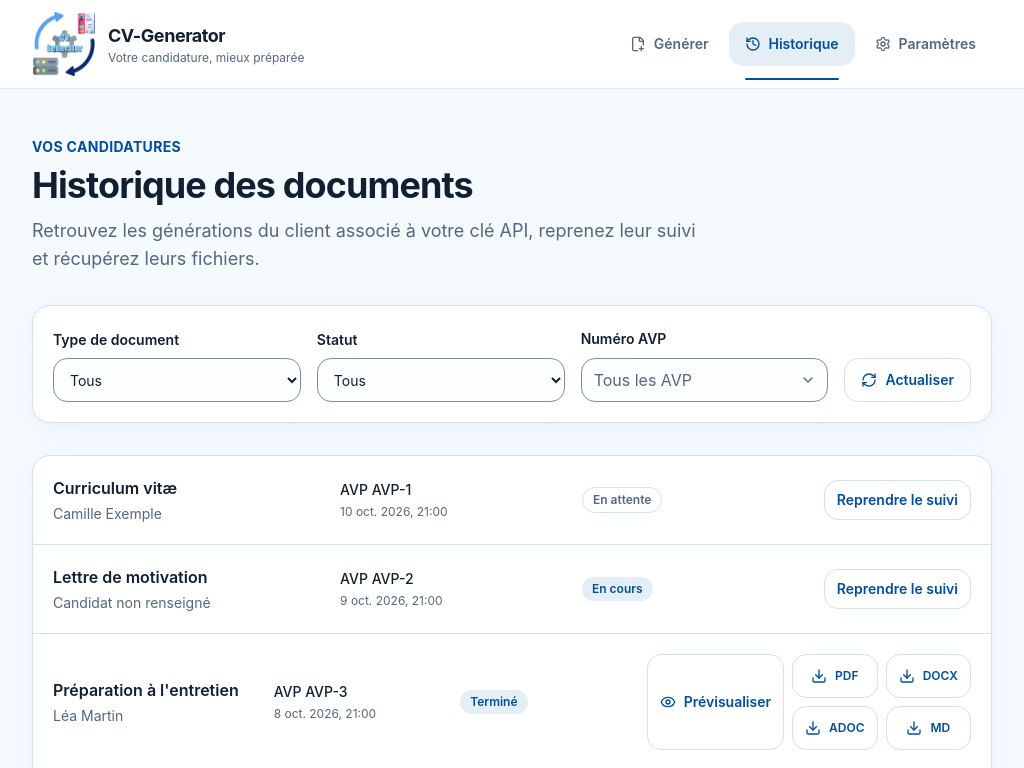
Test: historique documentaire › sélectionne et efface un AVP au clavier en le combinant aux autres filtres
Type "avp-3" into the dropdown labelled "Numéro AVP" at (704, 380), box [581, 358, 828, 402]
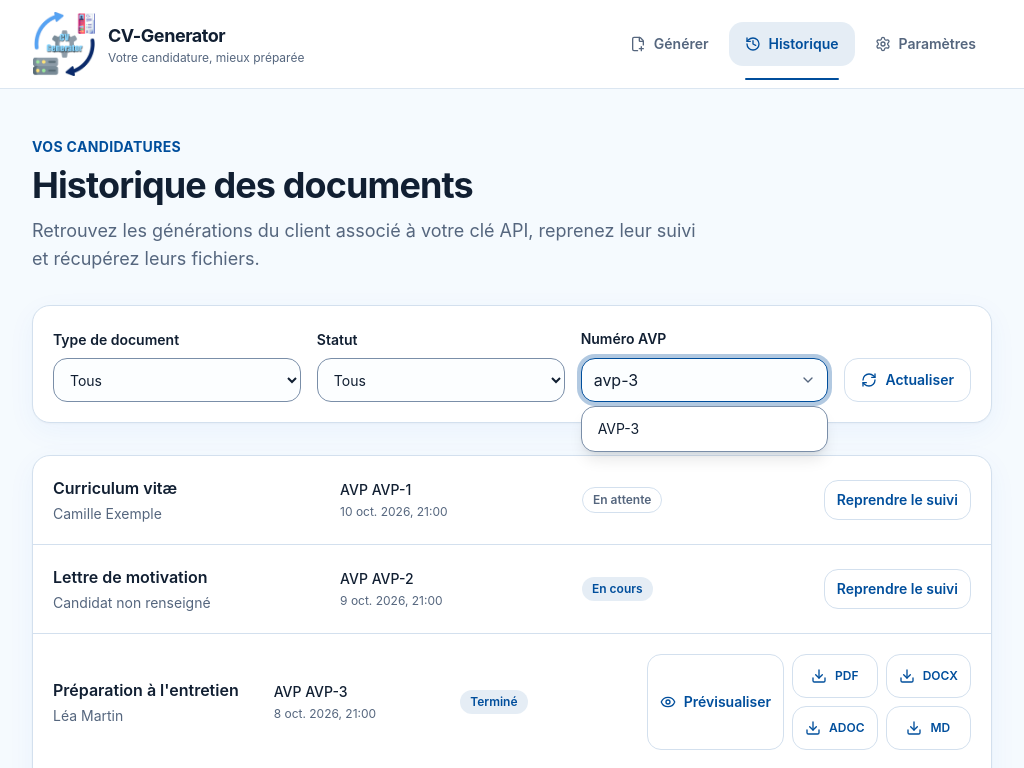
Press Arrowdown Enter
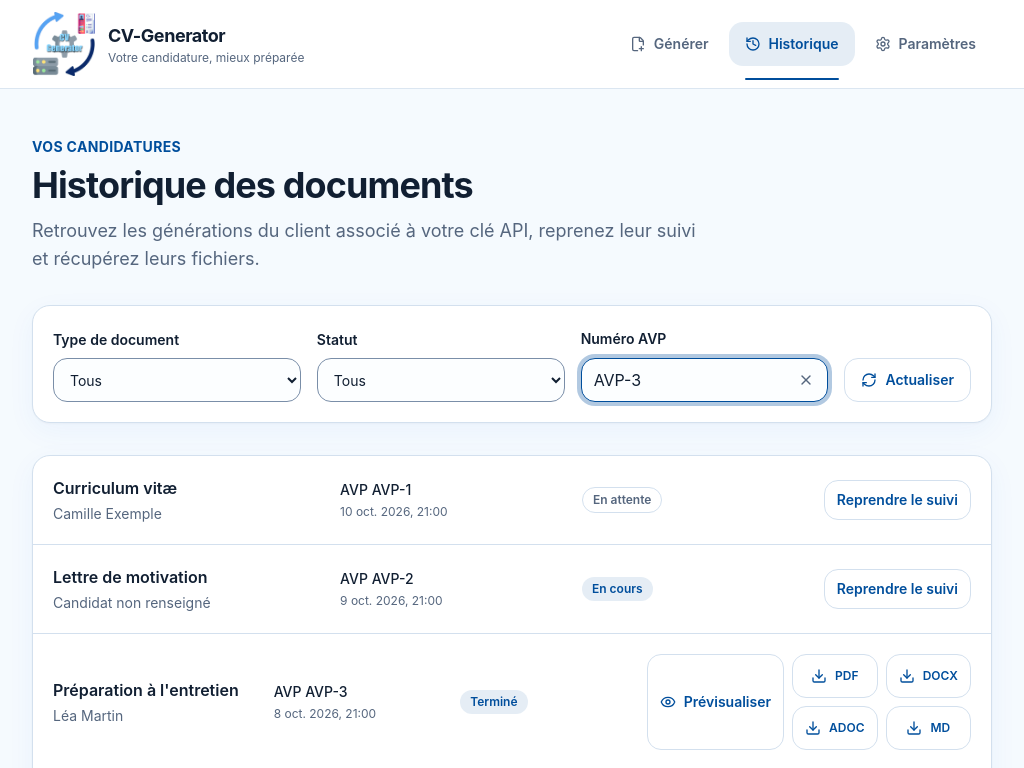
Select "Préparation à l'entretien" in the dropdown named "Filtrer par type" at (177, 380), box [53, 358, 301, 402]
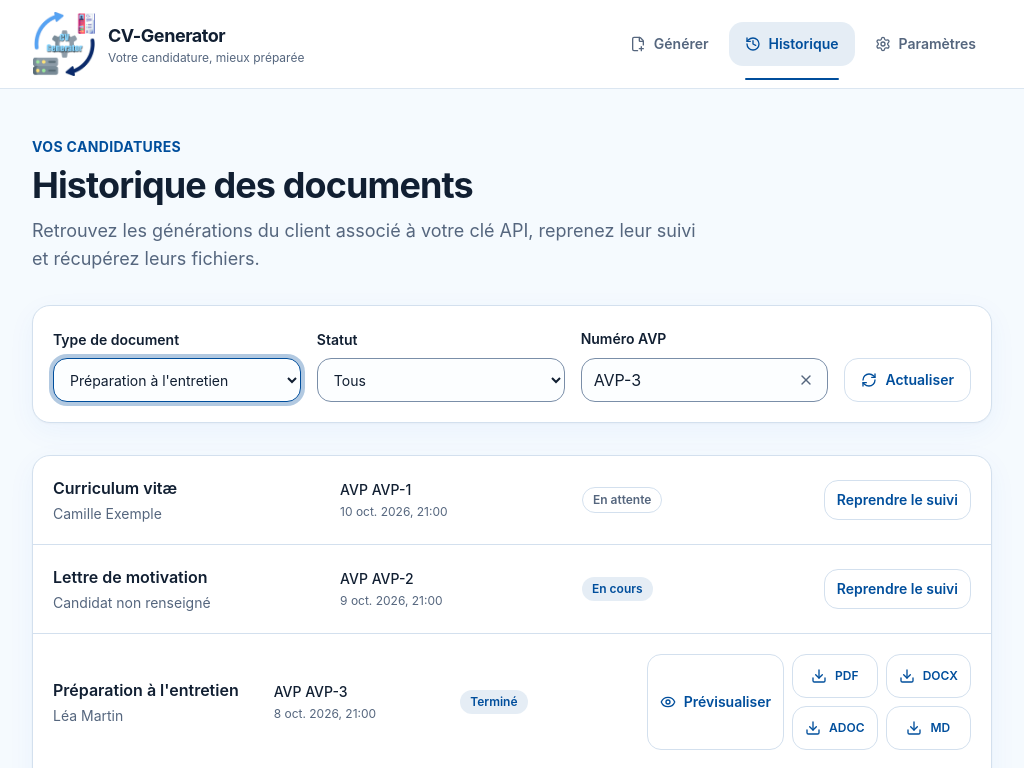
Click the button named "Effacer le filtre AVP" at (806, 380), box [788, 362, 824, 398]
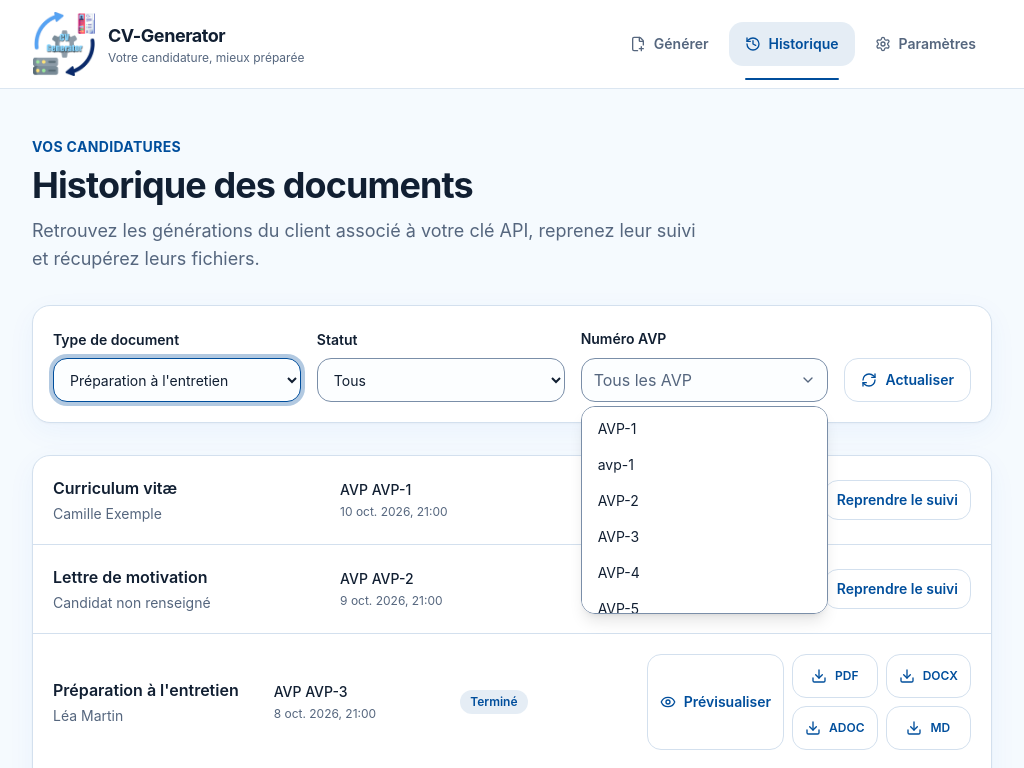
Result: the dropdown labelled "Numéro AVP" is empty at [581, 358, 828, 402]
